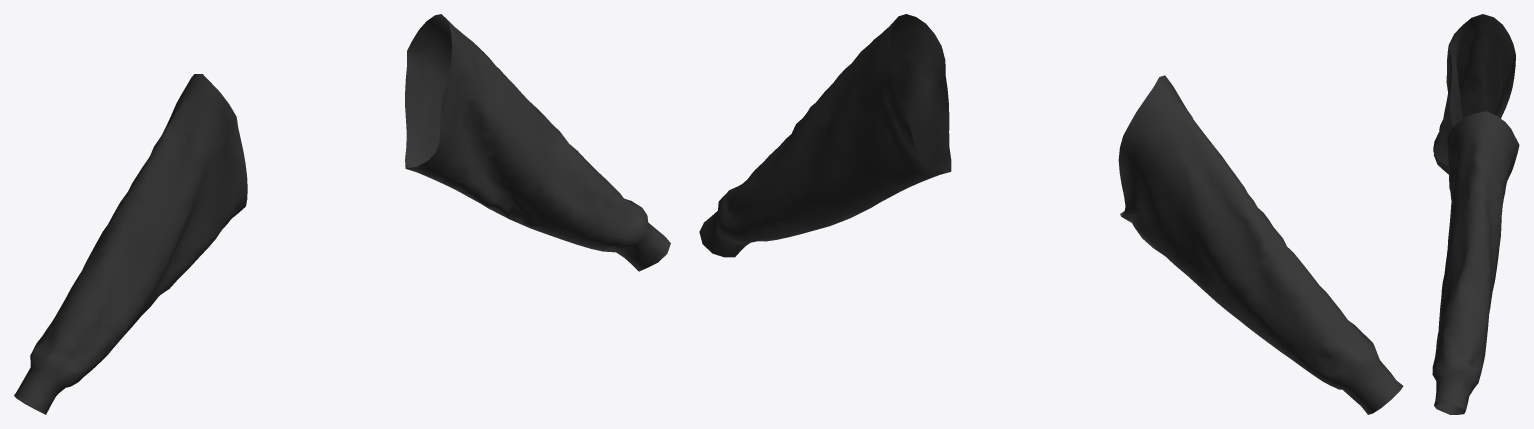
File: rukovasman2.gltf
3 views of the same model, side by side, from view 1: azimuth 30°, elevation 25°; view 2: azimuth 150°, elevation 25°; view 3: azimuth 270°, elevation 25° (orthographic). The views are drawn at different scales.
Parts seen in each view (by area): view 1: rukovasman2; view 2: rukovasman2; view 3: rukovasman2.
Boxes of the visible parts, x1=… form: rukovasman2: x1=14, y1=14, x2=670, y2=414; rukovasman2: x1=699, y1=14, x2=1403, y2=414; rukovasman2: x1=1432, y1=14, x2=1519, y2=414.
Bounding box in the file's own units: 1.39 × 0.5834 × 0.1968.
1 material, 1 textured.
